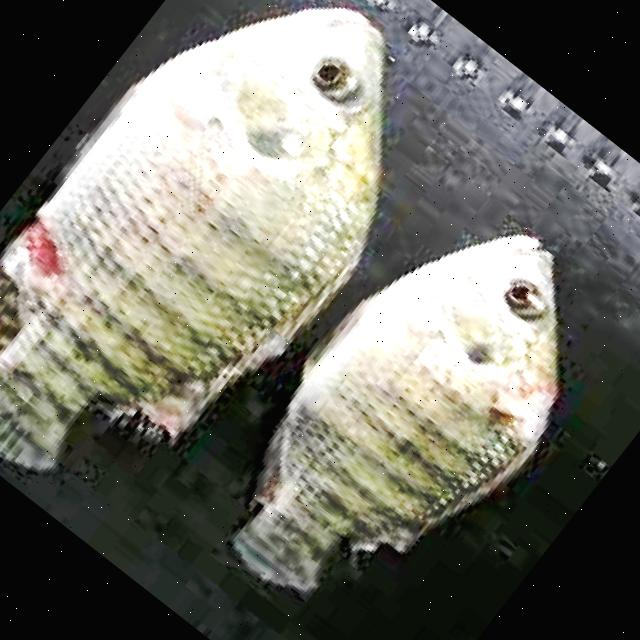Epizootic Ulcerative Syndrome -EUS-: (0, 8, 383, 470), (232, 236, 557, 592)
